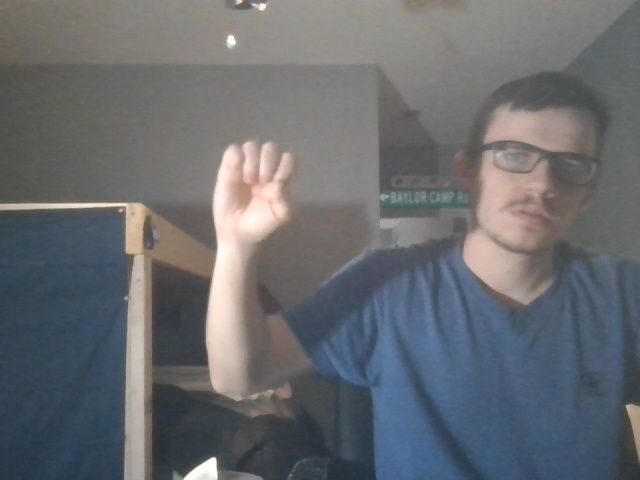E: (201, 137, 314, 252)
